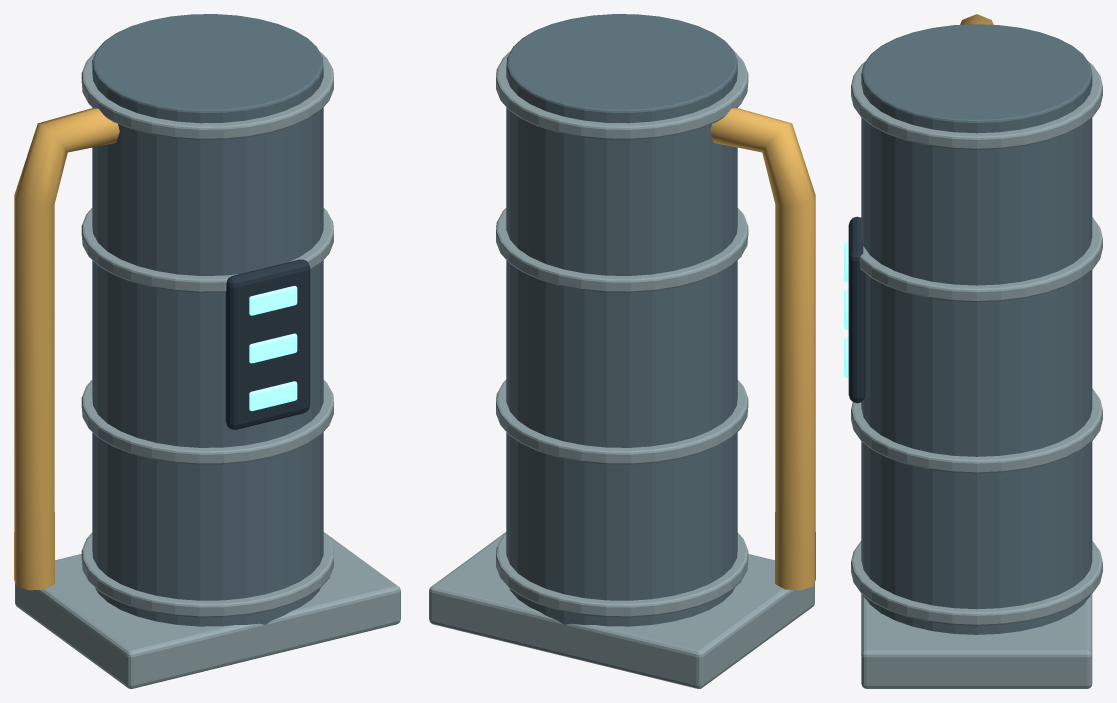
File: SM_Tank.fbx
The picture shows the model from 3 angles, left to right: view 1: azimuth 30°, elevation 25°; view 2: azimuth 150°, elevation 25°; view 3: azimuth 270°, elevation 25°; orthographic projection.
Visible parts, largest first — view 1: SM_Tank; view 2: SM_Tank; view 3: SM_Tank.
Part boxes in pixels (x1,y1,x2,y2): SM_Tank: [14, 14, 400, 688]; SM_Tank: [429, 14, 815, 688]; SM_Tank: [844, 14, 1102, 688].
Bounding box in the file's own units: 180 × 123 × 290.
